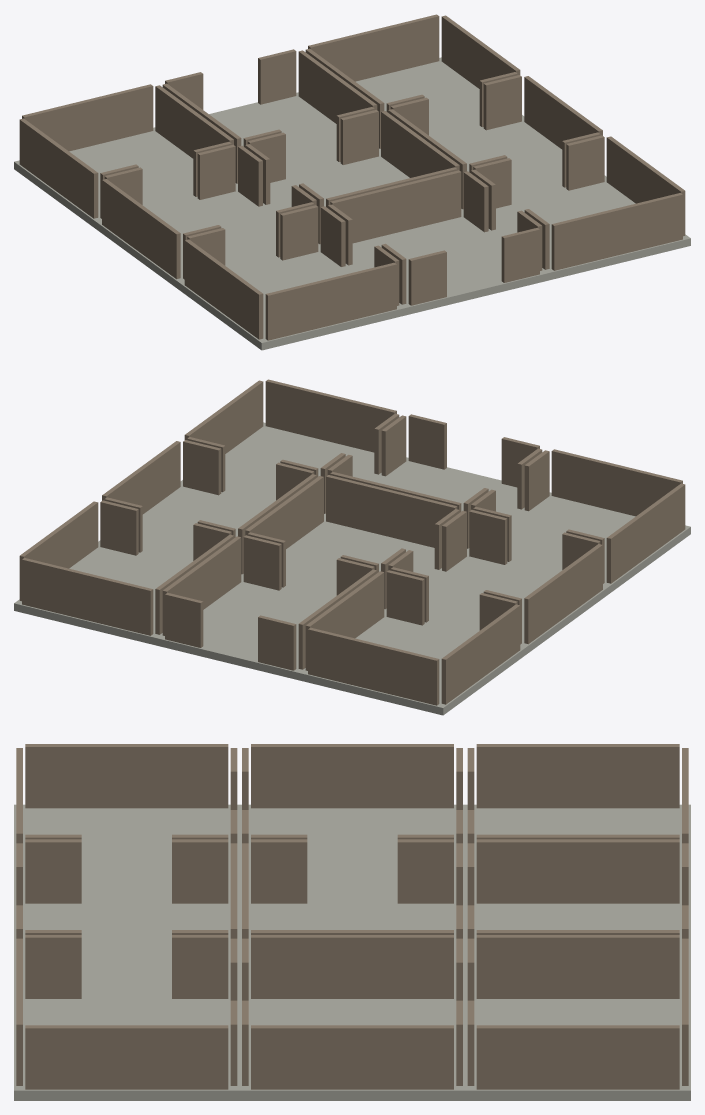
File: seed-18.glb
3 renders of one model, top to bottom at view 1: azimuth 30°, elevation 25°; view 2: azimuth 150°, elevation 25°; view 3: azimuth 270°, elevation 25°, orthographic. The views are drawn at different scales.
Visible parts, largest first — view 1: tee_floor, elbow_S_panel_0, elbow_W_panel_0.001, tee_floor.001, end_floor, tee_S_panel_0, straight_floor, end_N_panel_0, end_N_panel_0.001, straight_floor.001, end_floor.001, elbow_floor (+32 smaller); view 2: straight_floor.001, end_N_panel_0, end_N_panel_0.001, tee_floor.001, elbow_floor, elbow_floor.001, elbow_floor.002, elbow_W_panel_0.001, elbow_W_panel_0.002, straight_floor, elbow_S_panel_0, end_floor (+32 smaller); view 3: elbow_S_panel_0.001, straight_W_panel_0.001, end_E_panel_0.001, elbow_W_panel_0, end_W_panel_0, tee_S_panel_0.001, straight_E_panel_0, end_W_panel_0.001, straight_W_panel_0, tee_floor, tee_floor.001, elbow_floor (+25 smaller).
Part boxes in pixels (x1,y1,x2,y2): tee_floor: (345, 213, 547, 315); elbow_S_panel_0: (265, 262, 396, 340); elbow_W_panel_0.001: (551, 193, 682, 270); tee_floor.001: (96, 187, 320, 289); end_floor: (14, 127, 237, 229); tee_S_panel_0: (330, 170, 461, 243); straight_floor: (435, 118, 606, 211); end_N_panel_0: (22, 84, 153, 151); end_N_panel_0.001: (308, 14, 439, 81); straight_floor.001: (209, 92, 380, 185); end_floor.001: (355, 57, 524, 150); elbow_floor: (179, 248, 404, 350); straight_floor.001: (157, 578, 330, 680); end_N_panel_0: (308, 627, 439, 705); end_N_panel_0.001: (22, 558, 153, 635); tee_floor.001: (384, 552, 608, 654); elbow_floor: (467, 492, 690, 594); elbow_floor.001: (180, 422, 381, 515); elbow_floor.002: (241, 518, 441, 611); elbow_W_panel_0.001: (265, 379, 396, 452); elbow_W_panel_0.002: (326, 475, 457, 547); straight_floor: (98, 483, 269, 576); elbow_S_panel_0: (551, 449, 682, 516); end_floor: (300, 613, 525, 715); elbow_S_panel_0.001: (25, 1025, 228, 1089); straight_W_panel_0.001: (476, 839, 679, 903); end_E_panel_0.001: (476, 1025, 679, 1089); elbow_W_panel_0: (25, 744, 228, 808); end_W_panel_0: (476, 744, 679, 808); tee_S_panel_0.001: (251, 744, 453, 808); straight_E_panel_0: (251, 1025, 453, 1089); end_W_panel_0.001: (476, 935, 679, 998); straight_W_panel_0: (251, 935, 453, 998); tee_floor: (14, 900, 239, 995); tee_floor.001: (239, 804, 465, 899); elbow_floor: (14, 804, 239, 899).
Size of the model in its own units: 12 by 1.4 by 12.
